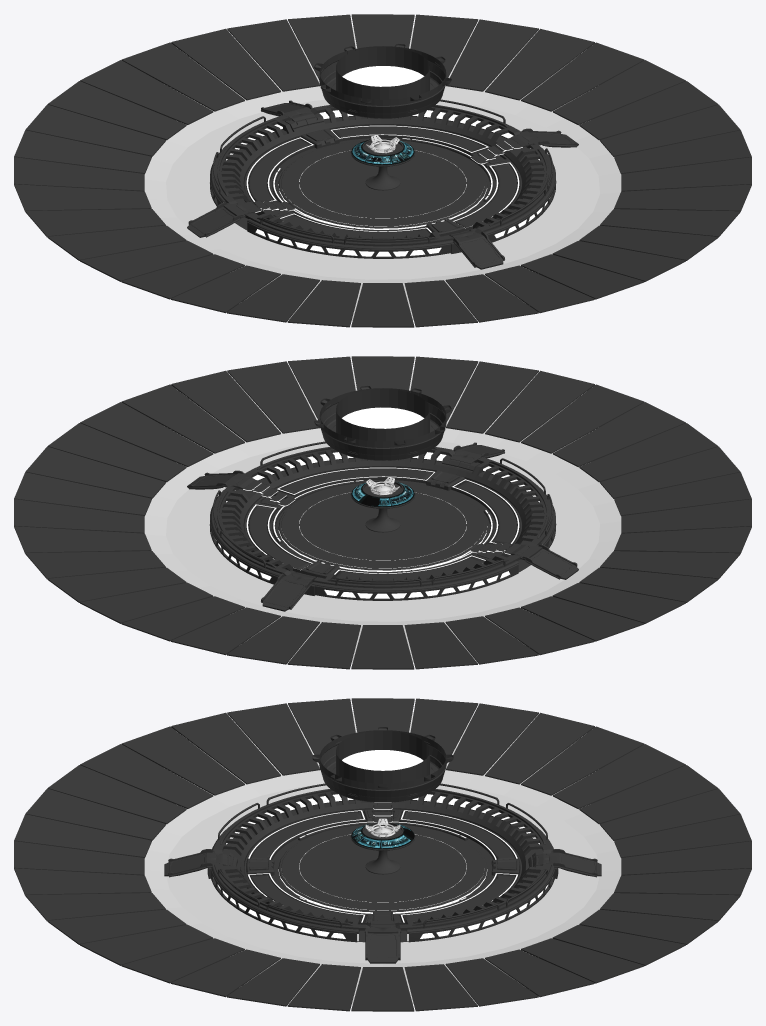
Rendered from hq-room-simple-remeshed1.glb.
The picture shows the model from 3 angles, top to bottom: view 1: azimuth 30°, elevation 25°; view 2: azimuth 150°, elevation 25°; view 3: azimuth 270°, elevation 25°; orthographic projection.
Parts seen in each view (by area): view 1: big floor, inner-collection, inner-collection.002, inner-floor, center-lamp, inner-collection.001, outer_plate.017, outer_plate.013, outer_plate.012, outer_plate.018, outer_plate.019, outer_plate.011 (+33 smaller); view 2: big floor, inner-collection, inner-collection.002, inner-floor, center-lamp, inner-collection.001, outer_plate.001, outer_plate.005, outer_plate, outer_plate.006, outer_plate.007, outer_plate.035 (+33 smaller); view 3: big floor, inner-collection, inner-collection.002, inner-floor, center-lamp, inner-collection.001, outer_plate.025, outer_plate.029, outer_plate.024, outer_plate.030, outer_plate.031, outer_plate.023 (+33 smaller).
Boxes of the visible parts, box(x1,y1,x2,y2) form: big floor: box(144, 27, 621, 320); inner-collection: box(187, 99, 578, 269); inner-collection.002: box(213, 105, 552, 246); inner-floor: box(299, 150, 466, 218); center-lamp: box(314, 44, 451, 118); inner-collection.001: box(278, 140, 487, 229); outer_plate.017: box(227, 19, 320, 91); outer_plate.013: box(446, 19, 538, 91); outer_plate.012: box(485, 28, 594, 100); outer_plate.018: box(171, 28, 280, 100); outer_plate.019: box(121, 42, 244, 111); outer_plate.011: box(521, 42, 644, 111); big floor: box(144, 369, 621, 662); inner-collection: box(187, 441, 578, 611); inner-collection.002: box(213, 447, 552, 588); inner-floor: box(299, 492, 466, 560); center-lamp: box(314, 386, 451, 460); inner-collection.001: box(278, 482, 487, 571); outer_plate.001: box(446, 361, 538, 433); outer_plate.005: box(227, 361, 320, 433); outer_plate: box(485, 370, 594, 442); outer_plate.006: box(171, 370, 280, 442); outer_plate.007: box(121, 384, 244, 453); outer_plate.035: box(521, 384, 644, 453); big floor: box(144, 712, 621, 1004); inner-collection: box(164, 783, 601, 963); inner-collection.002: box(214, 791, 551, 930); inner-floor: box(299, 834, 466, 902); center-lamp: box(312, 727, 453, 802); inner-collection.001: box(278, 824, 487, 913); outer_plate.025: box(446, 703, 538, 775); outer_plate.029: box(227, 703, 320, 775); outer_plate.024: box(485, 712, 594, 784); outer_plate.030: box(171, 712, 280, 784); outer_plate.031: box(121, 726, 244, 795); outer_plate.023: box(521, 726, 644, 795).
Bounding box in the file's own units: 87.98 × 15.92 × 87.98.
Materials: 4 (1 with a texture image).
